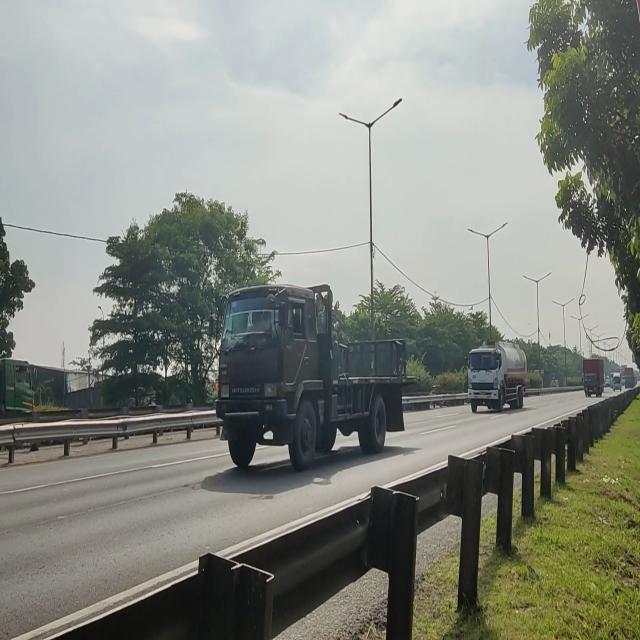Golongan II: (211, 276, 407, 478)
